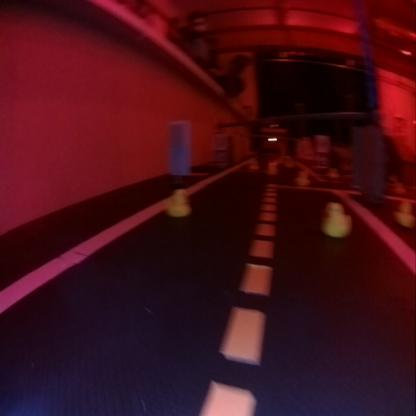Duckie: (322, 202, 351, 236), (166, 190, 190, 214), (396, 203, 411, 225)
